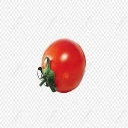tomato: (40, 38, 86, 93)
